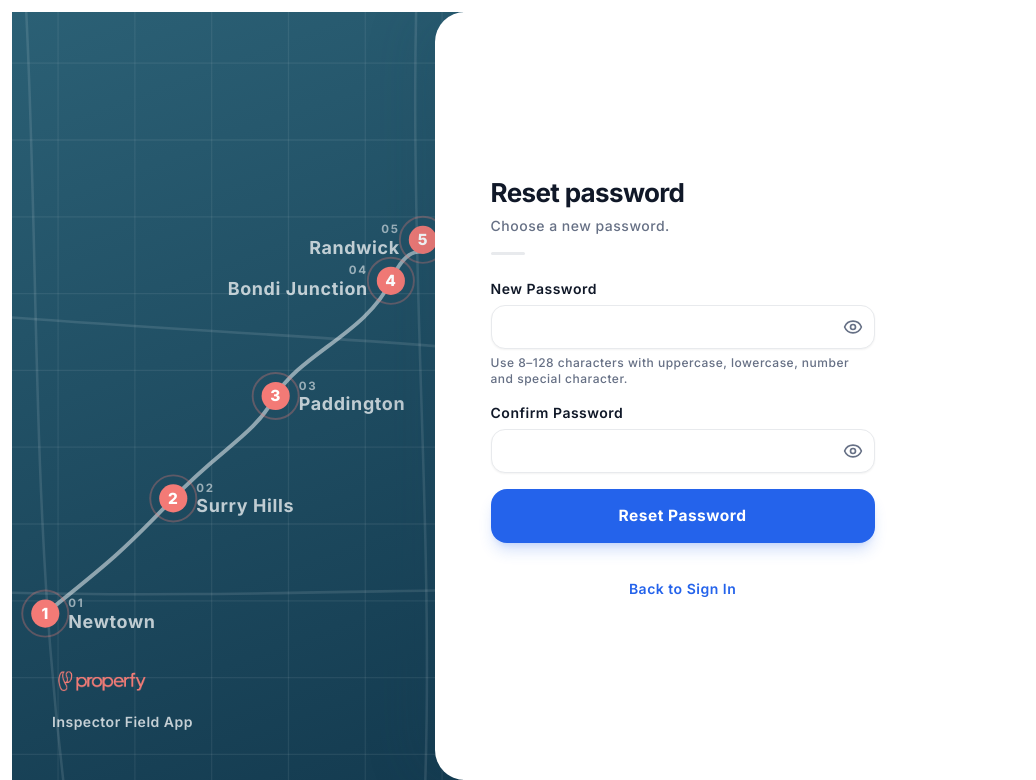
Test case: ResetPasswordPage (PWA) › shows validation error when passwords do not match
Type "Str0ng!Pass" into the password field labelled "New Password".
click(682, 327); type("Str0ng!Pass")  # box [490,305,874,349]
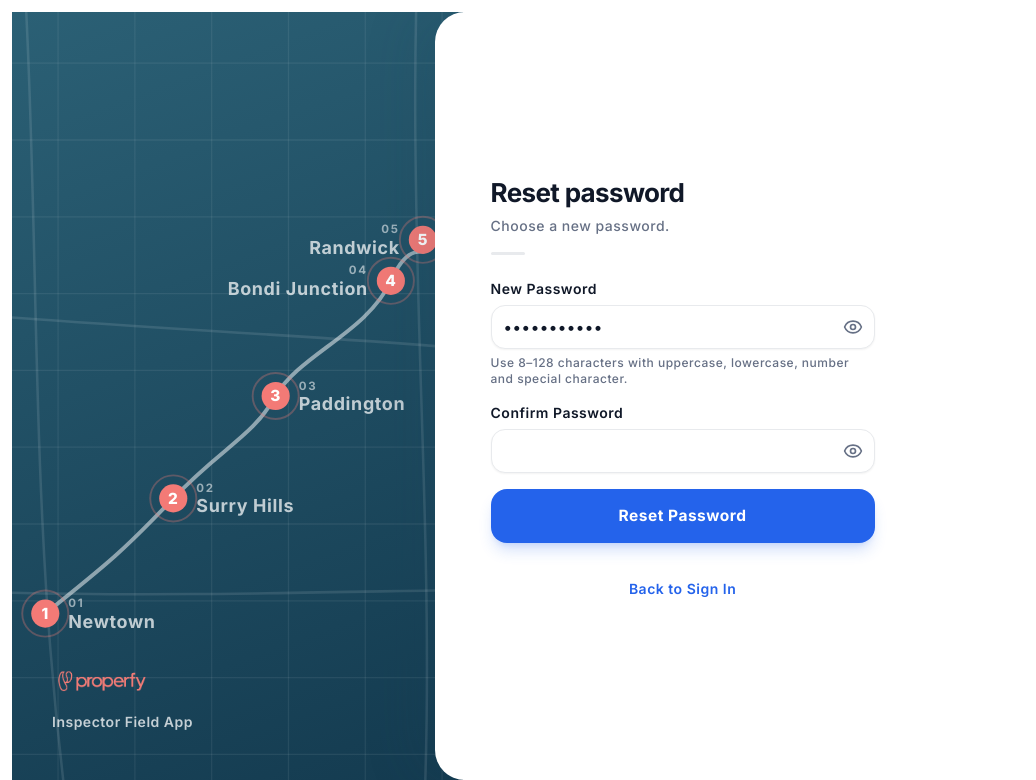
Type "Different!1" into the password field labelled "Confirm Password".
click(682, 451); type("Different!1")  # box [490,429,874,473]
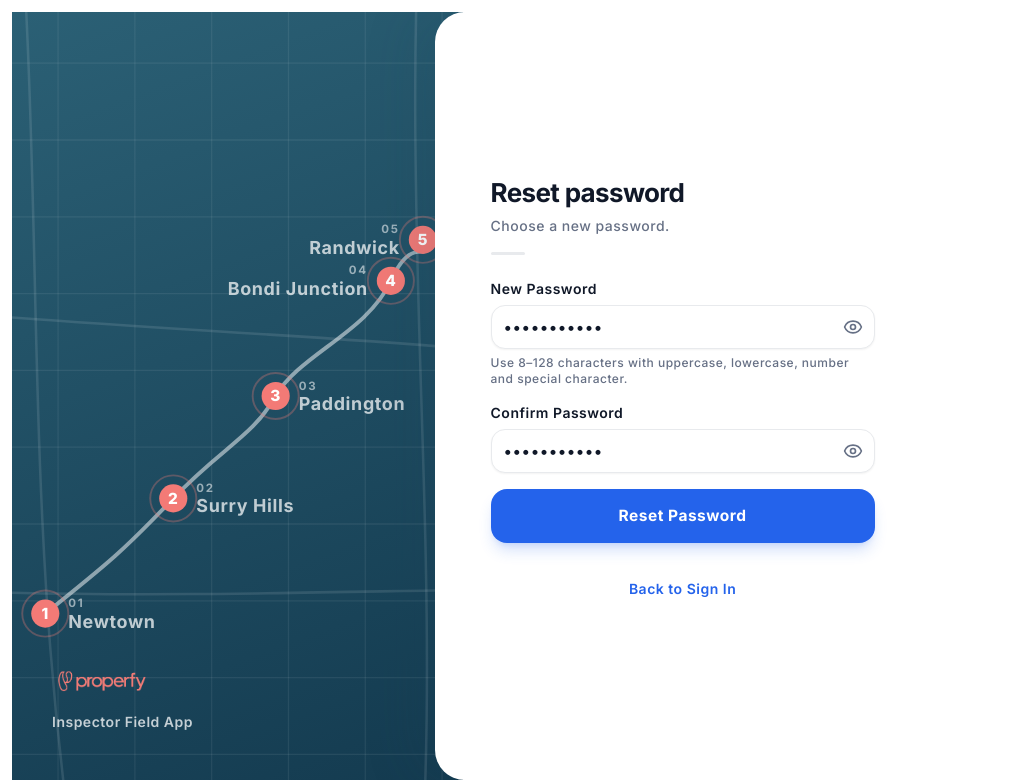
Click the button "Reset Password".
click(682, 516)  # box [490,489,874,543]
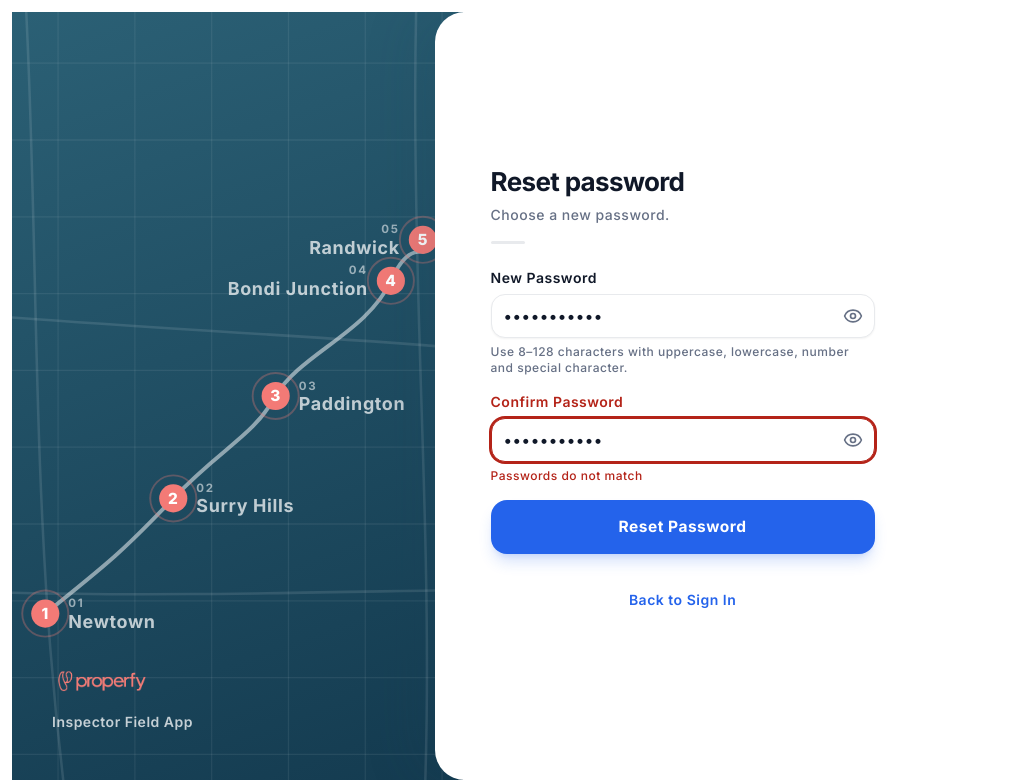
Result: the text "Passwords do not match" is shown at [490,468,643,483]
